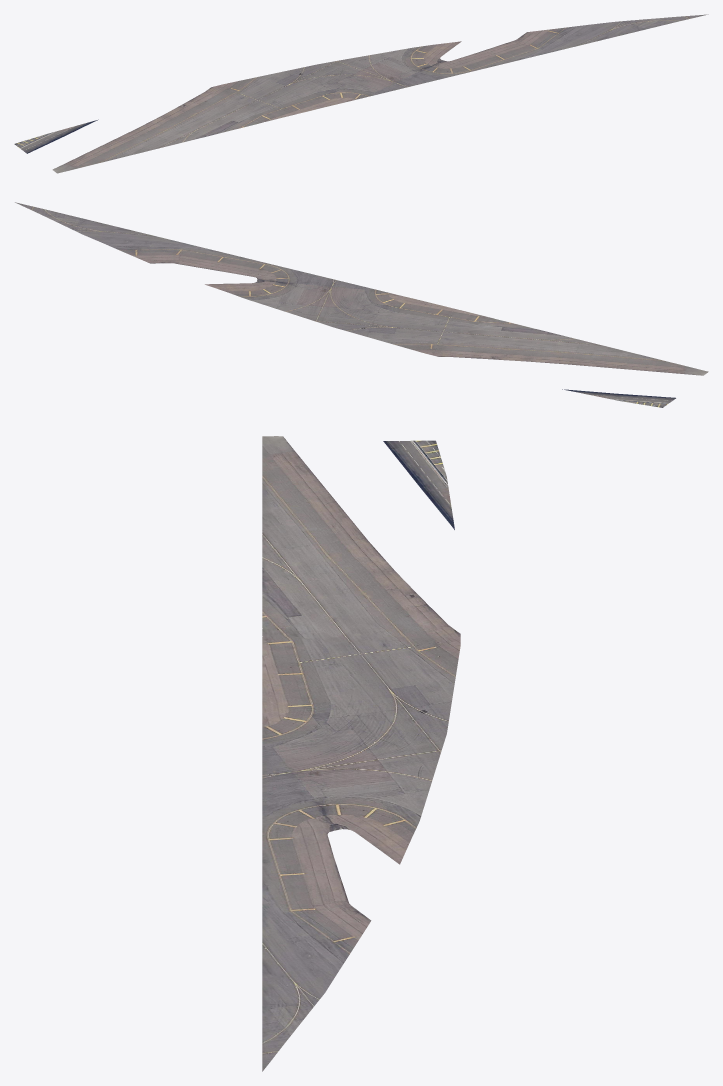
Rendered from roads_context_19.glb.
3 views of the same model, one above another, from view 1: azimuth 30°, elevation 25°; view 2: azimuth 150°, elevation 25°; view 3: azimuth 270°, elevation 25° (orthographic). The views are drawn at different scales.
Parts seen in each view (by area): view 1: I097501860001062A1.001; view 2: I097501860001062A1.001; view 3: I097501860001062A1.001.
Part boxes in pixels (box(x1,y1,x2,y2)): I097501860001062A1.001: box(14, 14, 708, 173); I097501860001062A1.001: box(15, 202, 708, 407); I097501860001062A1.001: box(262, 436, 460, 1071).
Bounding box in the file's own units: 472 × 3.01 × 62.19.
3 materials, 3 textured.
